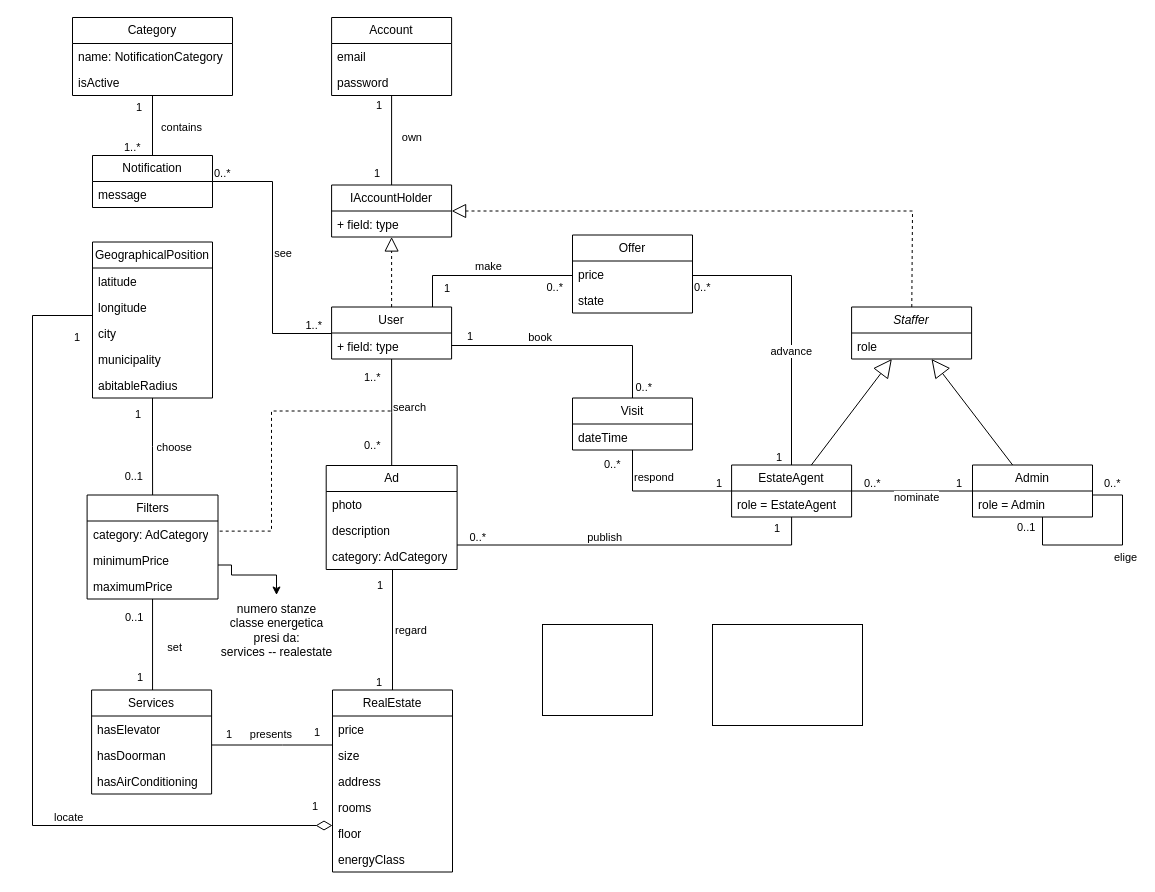
The diagram is 1155 pixels wide and 892 high, and some of its shapes have lost their labels. The centre of each missing label's shape, as x and y in pixels:
"<<enum>> AdCategories Sale Rent" goes at (x=597, y=670).
"<<enum>> NotificationCategories Promotional RealEstates Offers" goes at (x=787, y=675).
